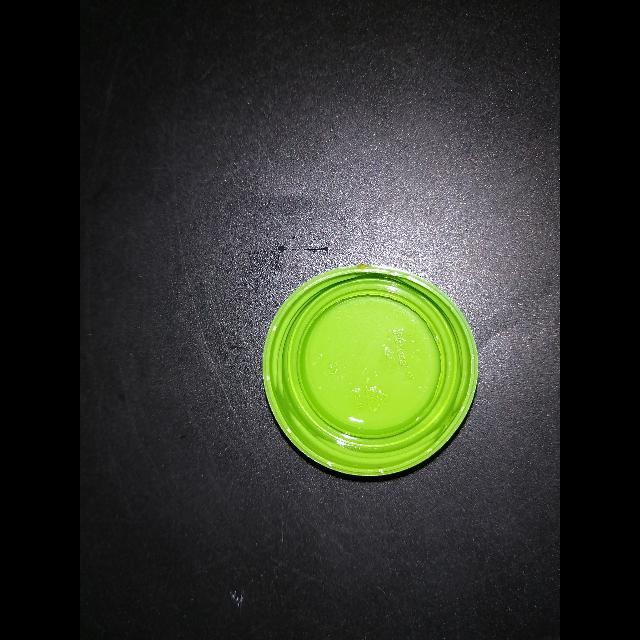plastic_bottle_cap: (258, 264, 480, 481)
